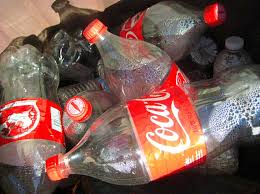Coca-Cola: (138, 83, 205, 179), (146, 91, 191, 158), (1, 93, 45, 144), (115, 5, 153, 48), (149, 65, 193, 100)
bottle: (45, 58, 260, 185), (82, 14, 197, 108), (1, 42, 65, 188), (115, 1, 233, 63), (61, 78, 122, 145)
plastic: (2, 4, 260, 190)
